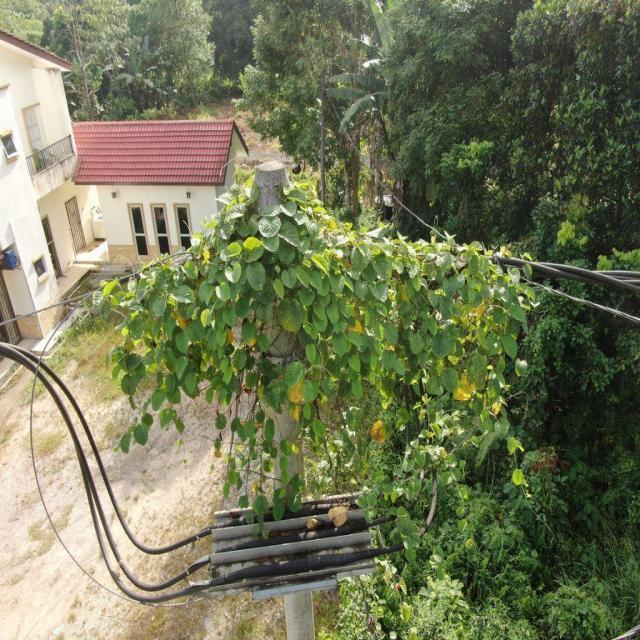critical vegetation: (90, 144, 549, 499)
